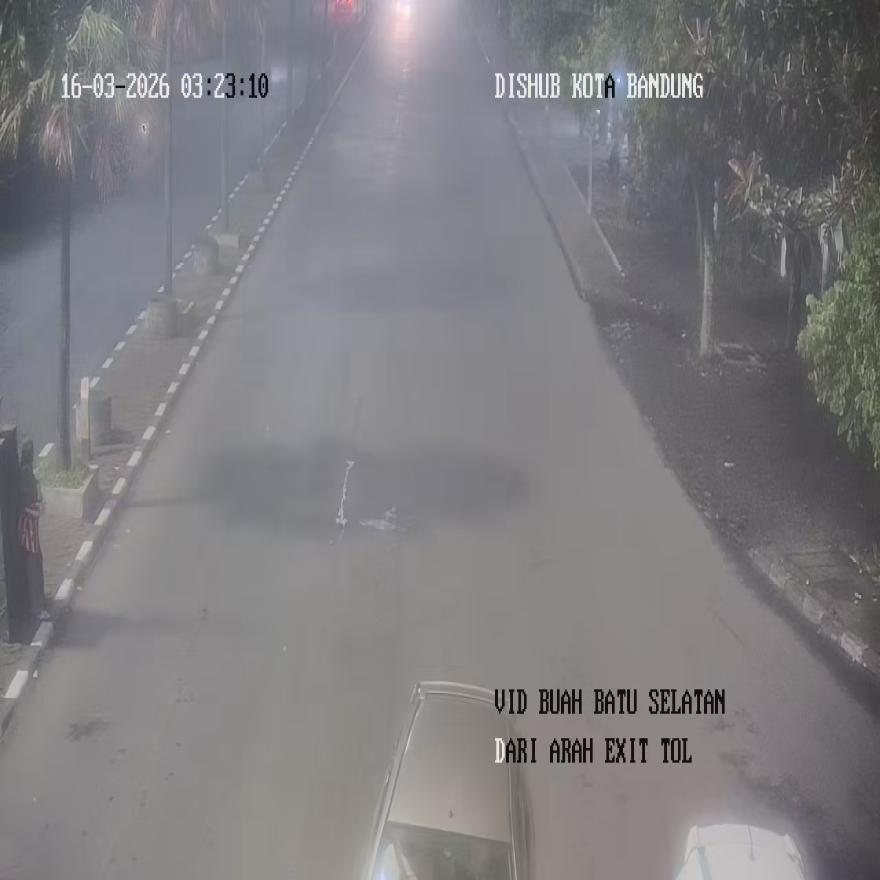Mobil: (361, 680, 533, 878)
